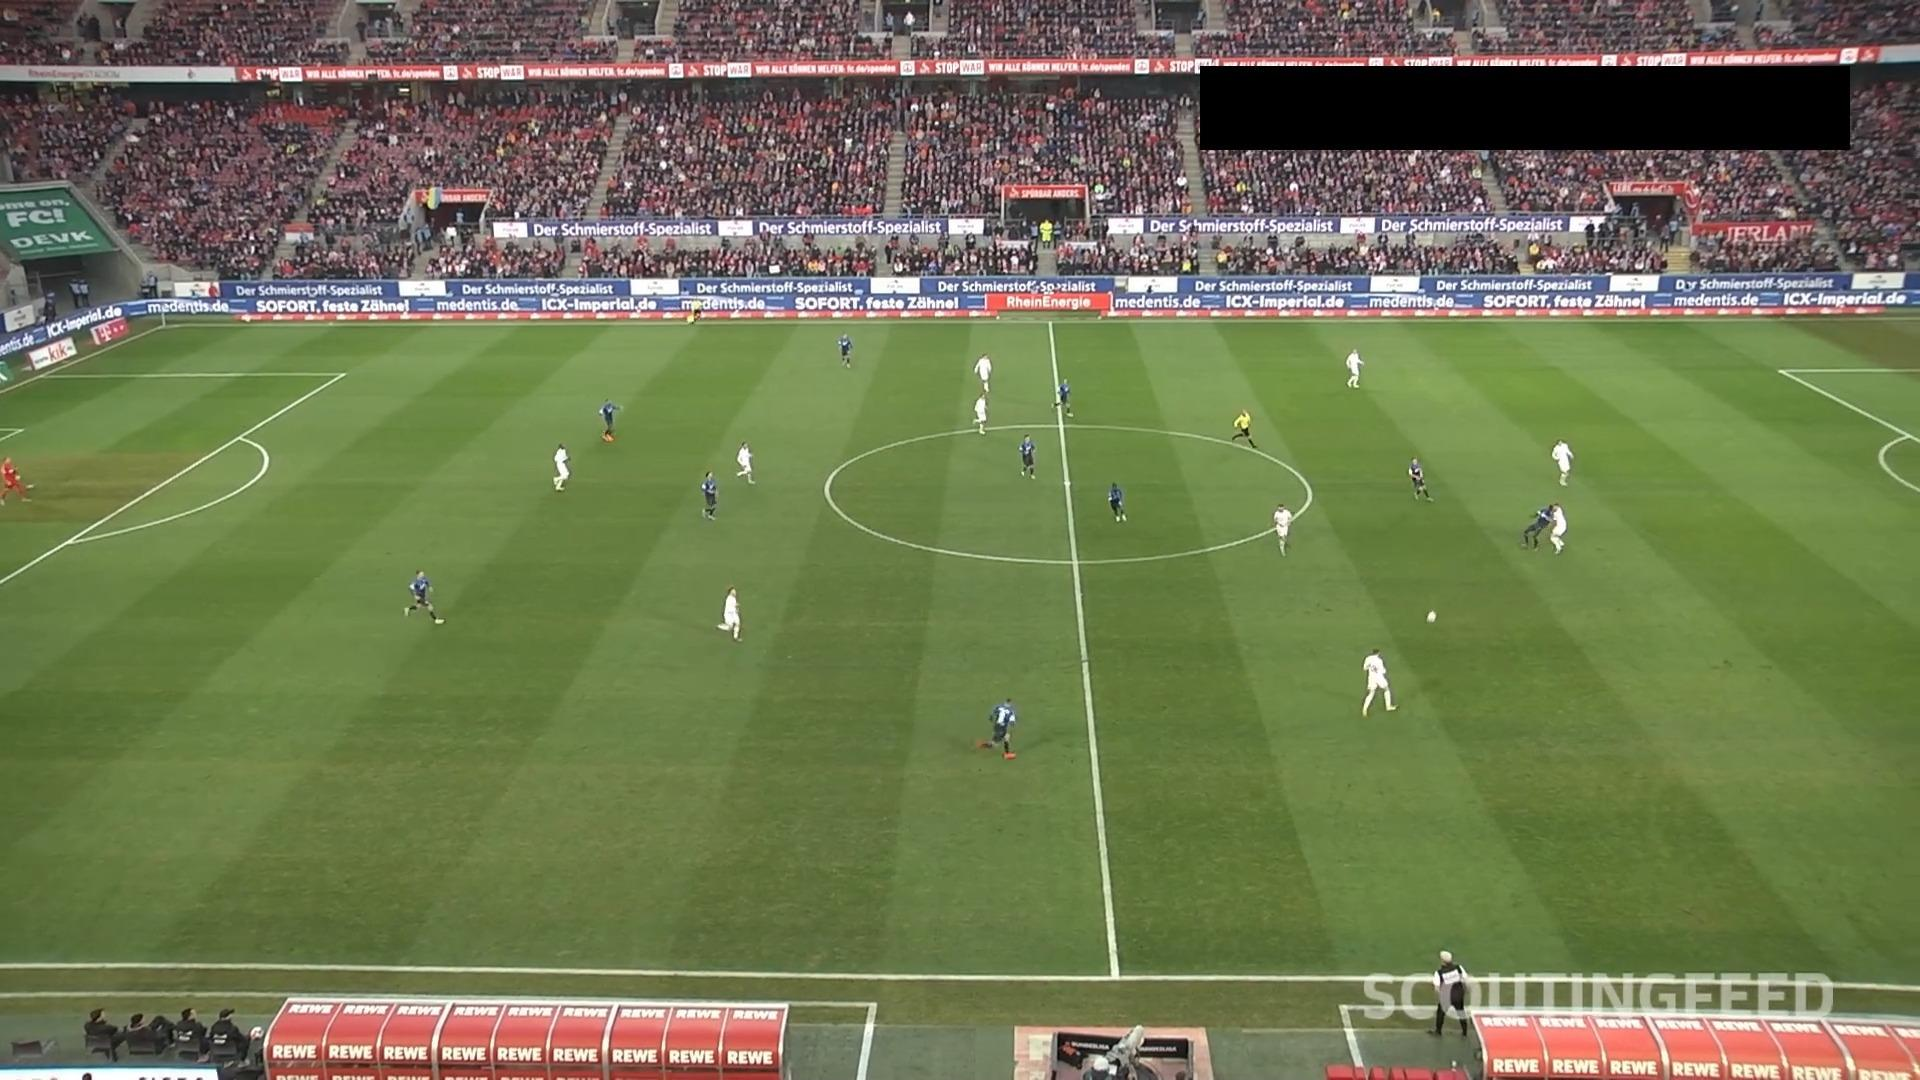ball: (1425, 609, 1439, 625)
